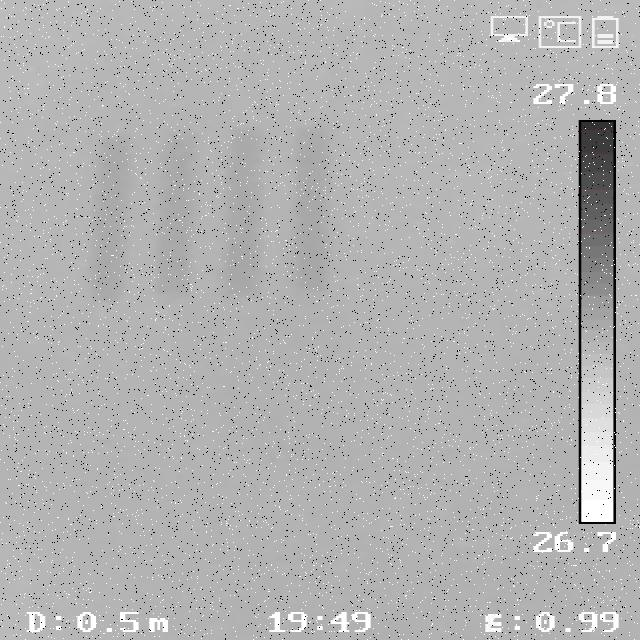Distinguishable 4-bar target: (85, 124, 340, 304)
